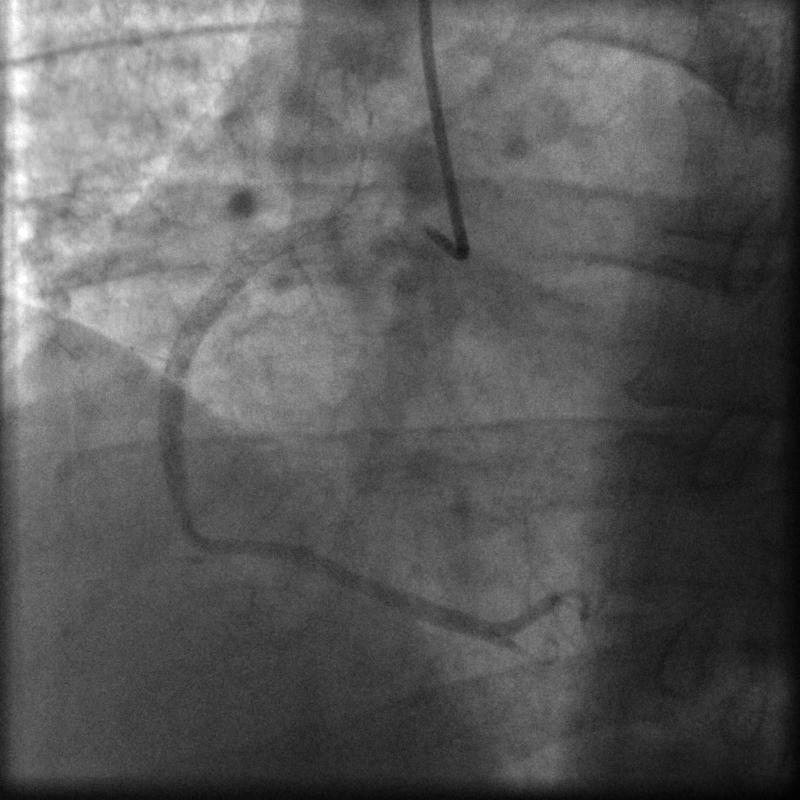Stenosis: (155, 466, 196, 539)
